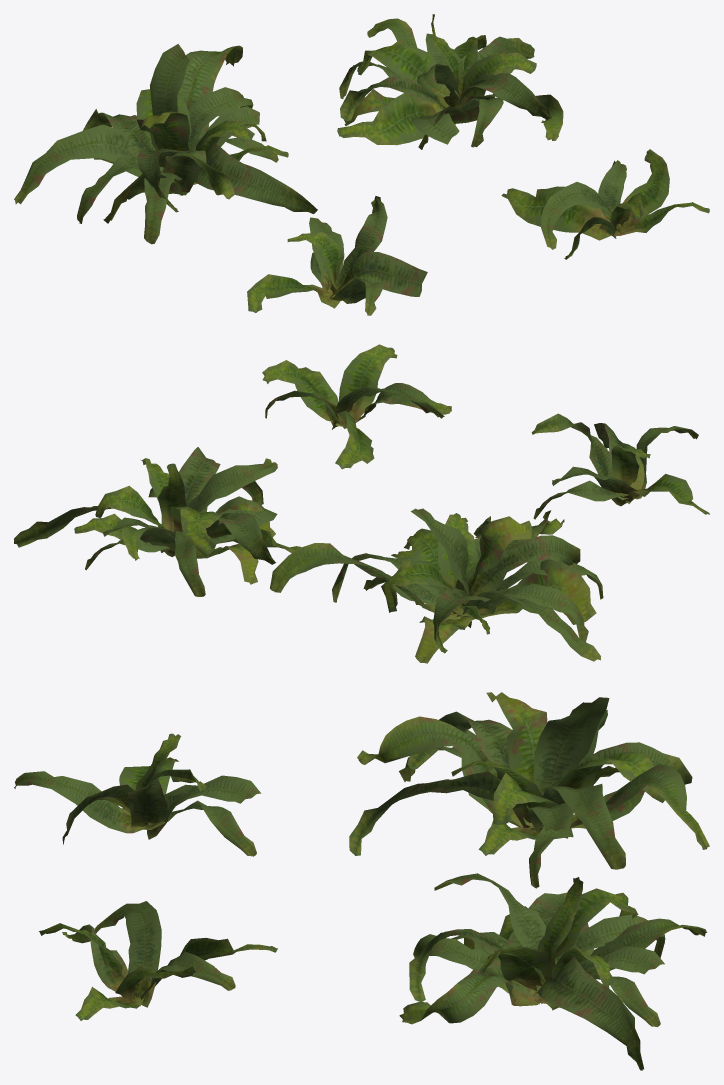
Rendered from fern.glb.
3 views of the same model, one above another, from view 1: azimuth 30°, elevation 25°; view 2: azimuth 150°, elevation 25°; view 3: azimuth 270°, elevation 25° (orthographic). The views are drawn at different scales.
Visible parts, largest first — view 1: fern_02_b; view 2: fern_02_b; view 3: fern_02_b.
Boxes of the visible parts, x1,y1,x2,y2 form: fern_02_b: (14,14,709,315); fern_02_b: (14,344,709,663); fern_02_b: (14,692,709,1070).
Size of the model in its own units: 1.97 by 0.4277 by 1.72.
Materials: 1 (1 with a texture image).
